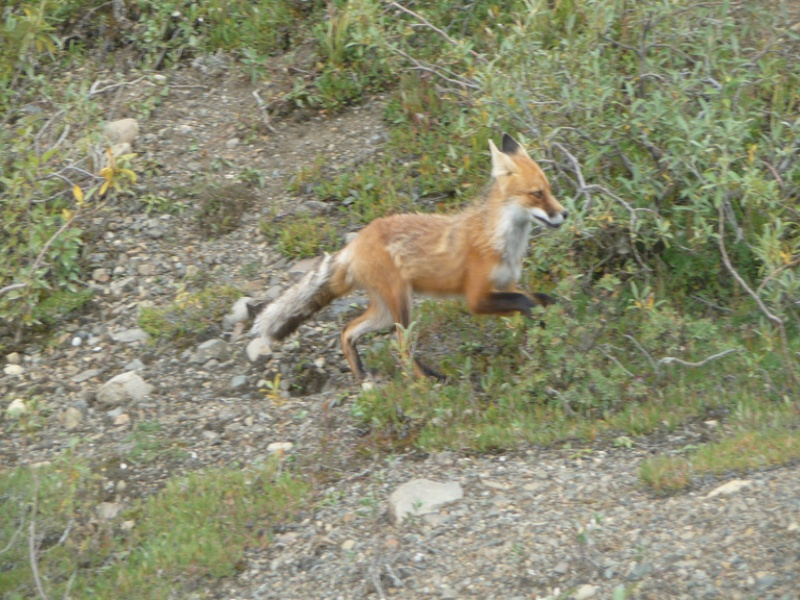fox: (246, 128, 572, 401)
